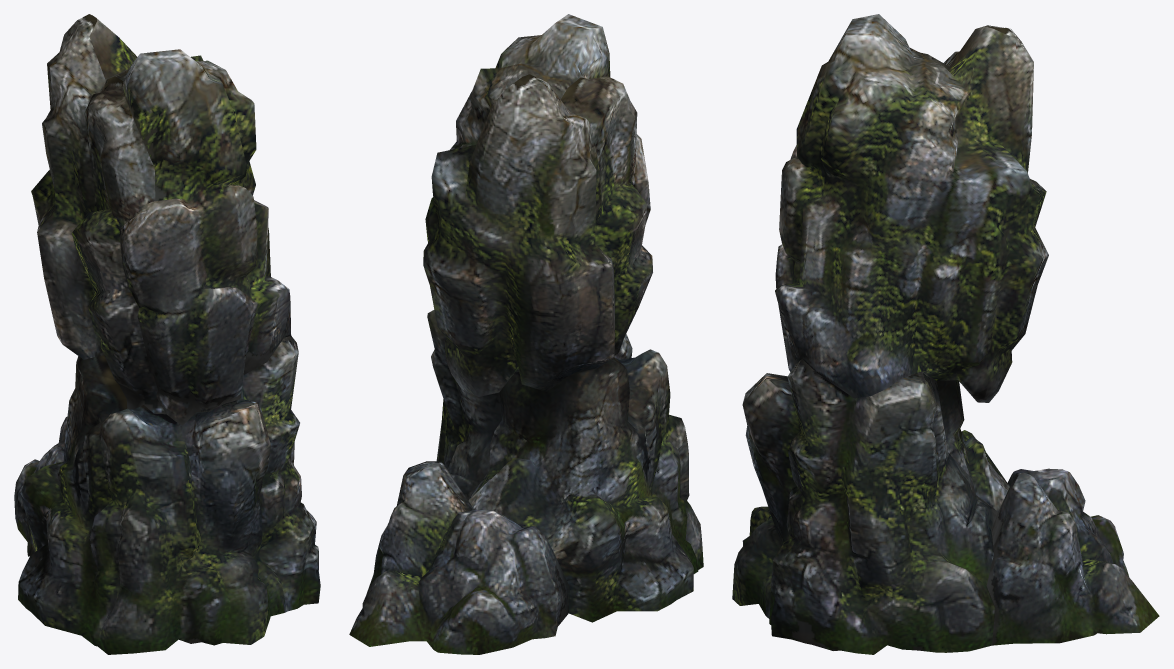
The model's file is Utility_Stone_Maincity12_02.FBX.
3 renders of one model, left to right at view 1: azimuth 30°, elevation 25°; view 2: azimuth 150°, elevation 25°; view 3: azimuth 270°, elevation 25°, orthographic. The views are drawn at different scales.
Visible parts, largest first — view 1: Utility_Stone_Maincity12_02; view 2: Utility_Stone_Maincity12_02; view 3: Utility_Stone_Maincity12_02.
Part boxes in pixels (x1,y1,x2,y2): Utility_Stone_Maincity12_02: (14,14,320,654); Utility_Stone_Maincity12_02: (349,14,703,654); Utility_Stone_Maincity12_02: (732,14,1159,654).
Size of the model in its own units: 8470 by 17500 by 11903.
